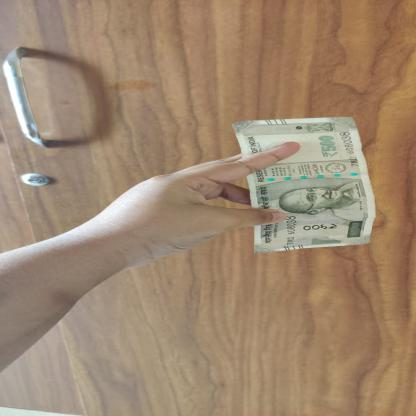New500Front: (229, 116, 376, 254)
